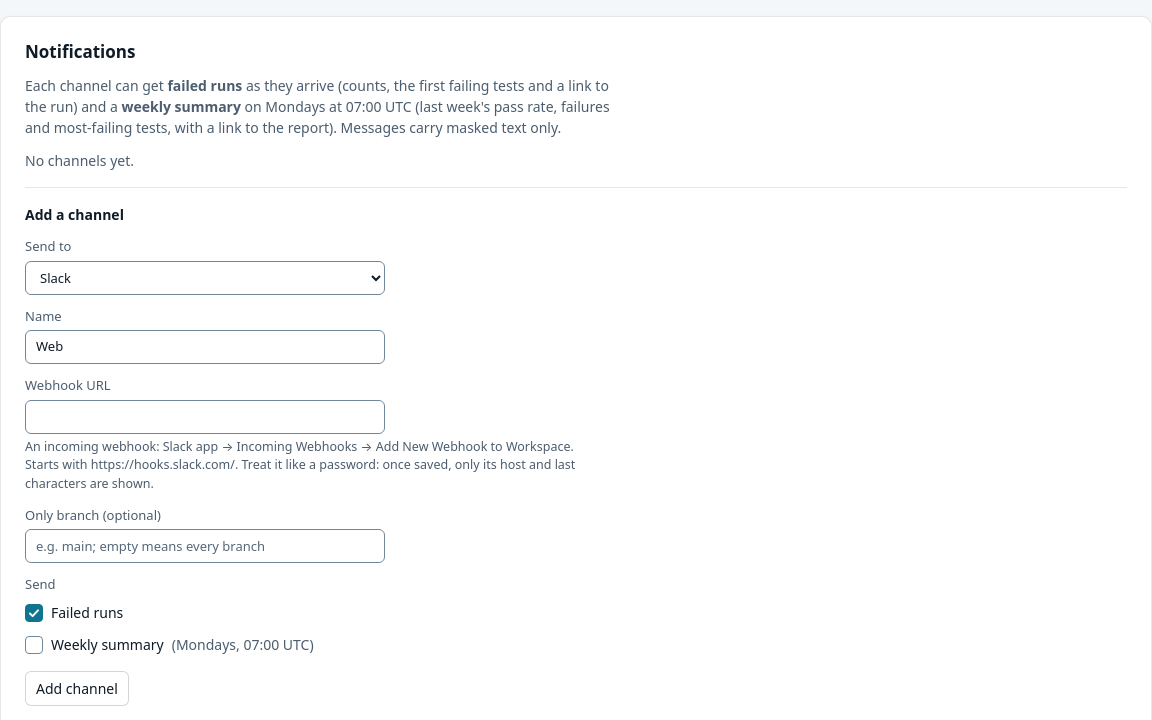
Test: a refused URL is explained and kept
Expected: the text "No channels yet." is shown, [25,151,134,170]
Step 1. Select "Webhook" in the dropdown labelled "Send to" → [205, 278], box [25,261,385,295]
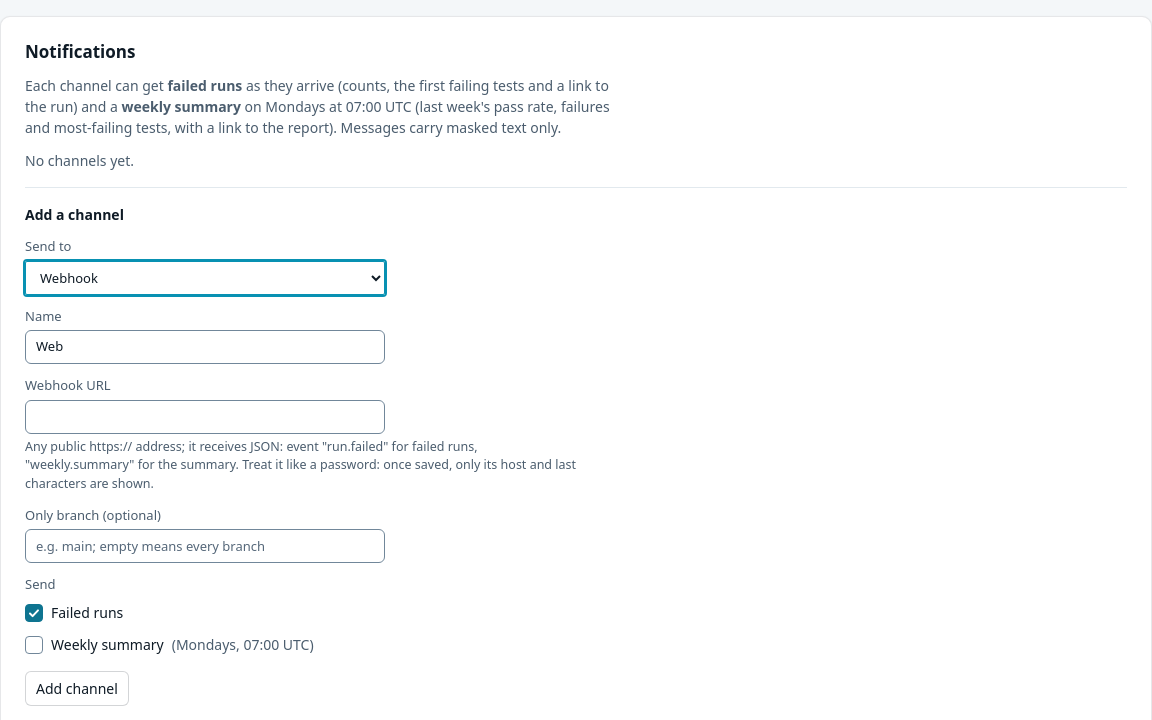
Step 2. Type "https://10.0.0.1/x" into the field labelled "Webhook URL" → [205, 417], box [25,400,385,434]
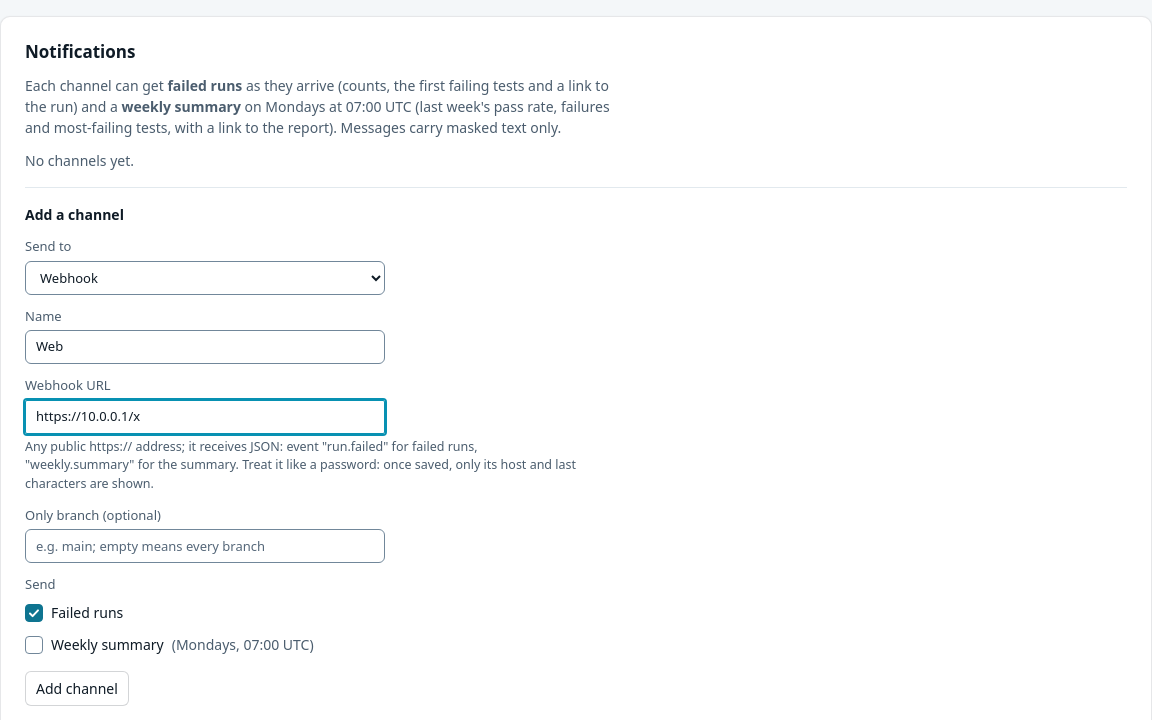
Step 3. Click the button "Add channel" → [77, 688], box [25,671,129,706]
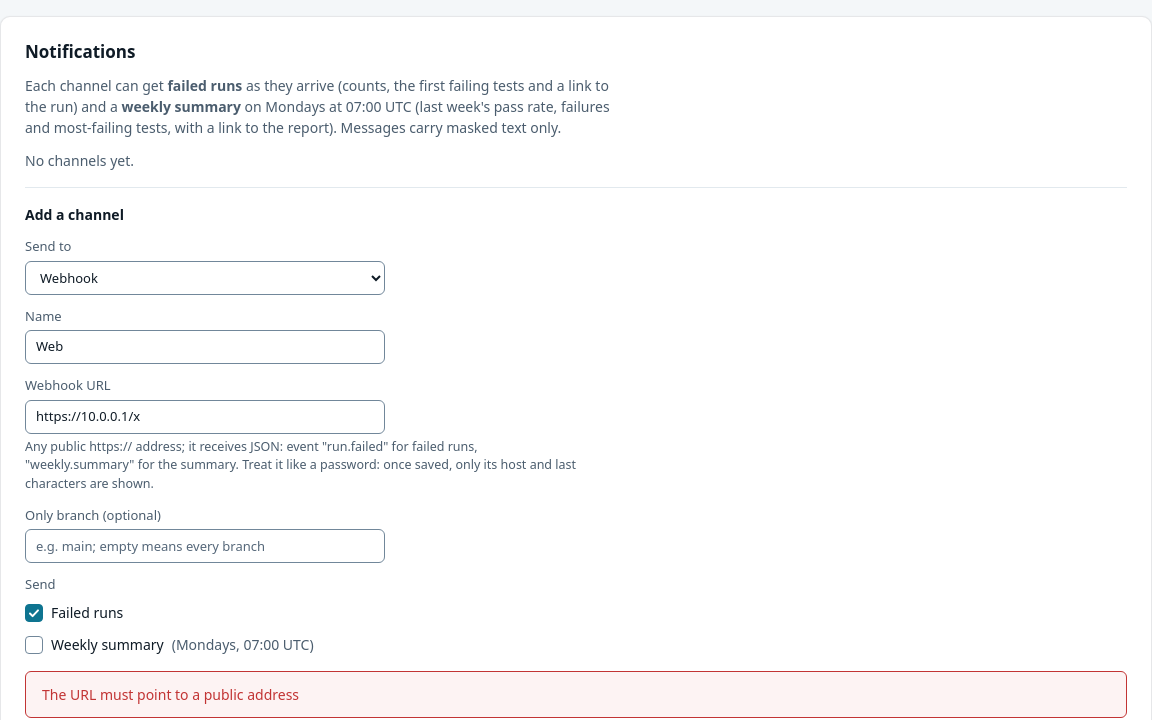
Result: the text "The URL must point to a public address" is shown at [42,684,299,705]
